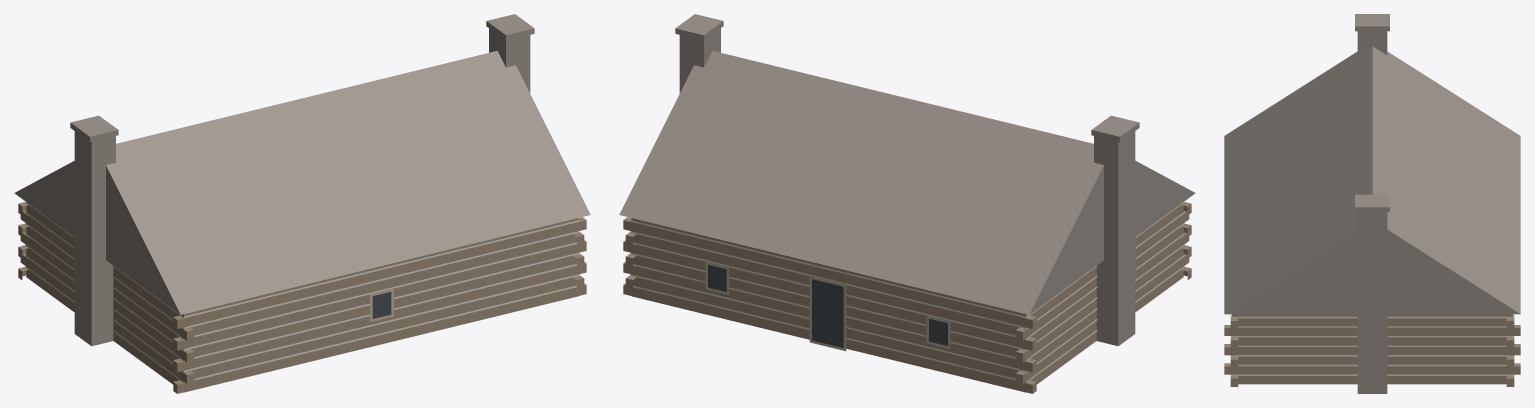
File: cobweb_castle__log_1820.glb
The picture shows the model from 3 angles, left to right: view 1: azimuth 30°, elevation 25°; view 2: azimuth 150°, elevation 25°; view 3: azimuth 270°, elevation 25°; orthographic projection. The views are drawn at different scales.
Visible parts, largest first — view 1: cobweb_castle__log_1820; view 2: cobweb_castle__log_1820; view 3: cobweb_castle__log_1820.
Boxes of the visible parts, x1,y1,x2,y2 form: cobweb_castle__log_1820: (14, 14, 590, 393); cobweb_castle__log_1820: (619, 14, 1195, 393); cobweb_castle__log_1820: (1224, 14, 1520, 393).
Size of the model in its own units: 14.64 by 6.71 by 9.5.
1 material, 1 textured.
